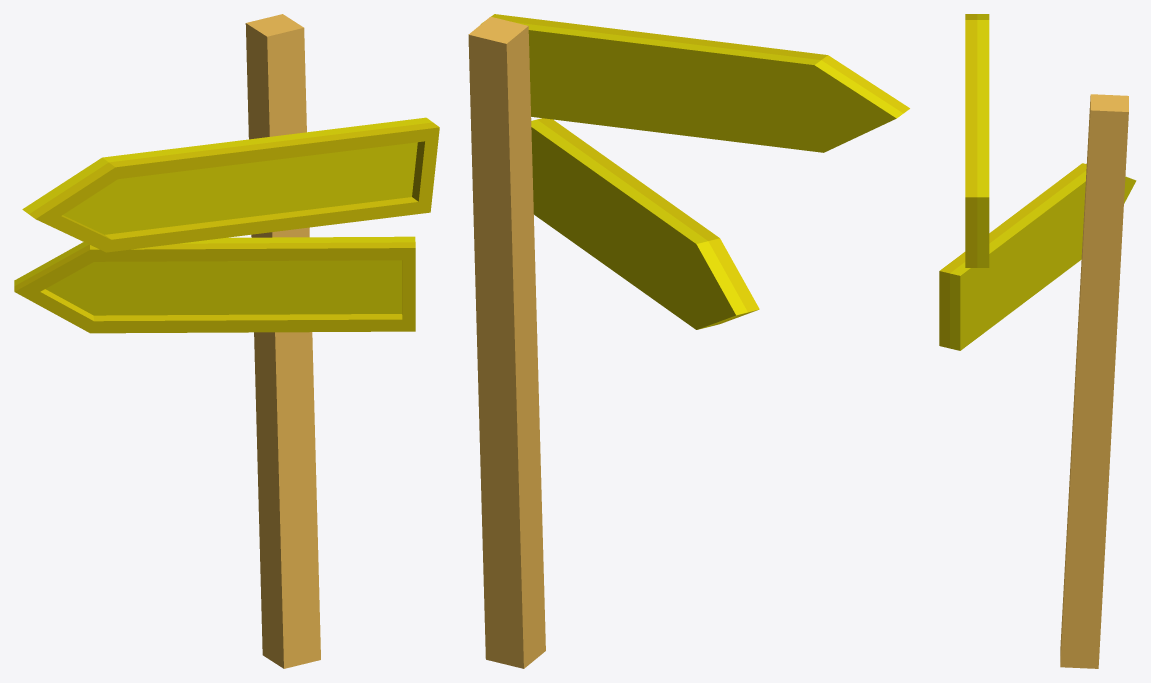
Rendered from sign.glb.
The picture shows the model from 3 angles, left to right: view 1: azimuth 30°, elevation 25°; view 2: azimuth 150°, elevation 25°; view 3: azimuth 270°, elevation 25°; orthographic projection. The views are drawn at different scales.
Size of the model in its own units: 1.75 by 2.56 by 0.8205.
